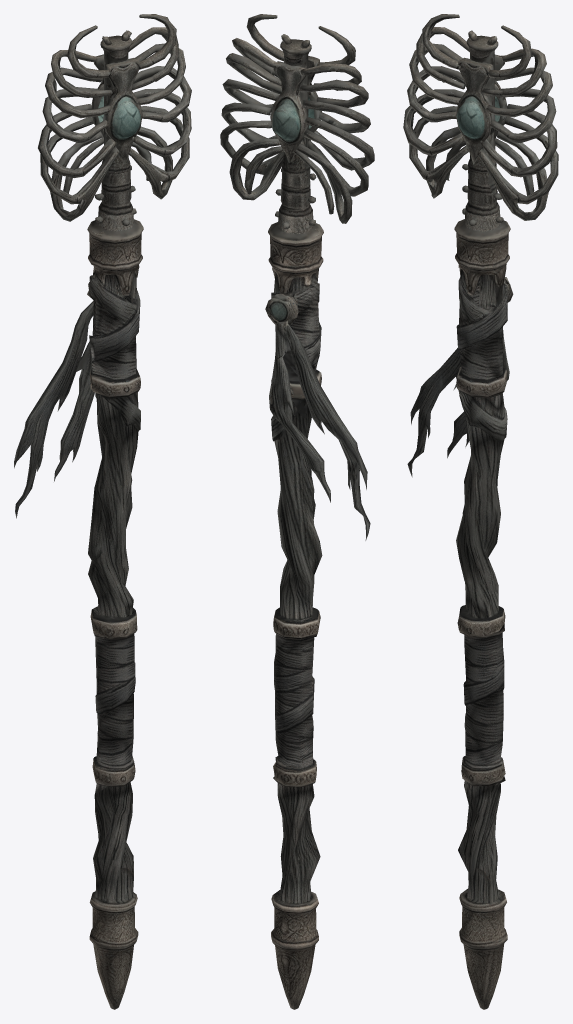
The model's file is vesper-reed.glb.
The picture shows the model from 3 angles, left to right: view 1: azimuth 30°, elevation 25°; view 2: azimuth 150°, elevation 25°; view 3: azimuth 330°, elevation 25°; orthographic projection.
Bounding box in the file's own units: 0.1611 × 0.9507 × 0.0698.
1 material, 1 textured.
